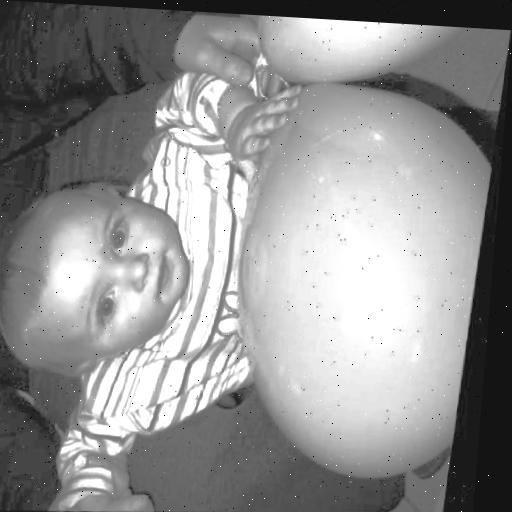balloon: (209, 66, 504, 505), (246, 15, 500, 113)
